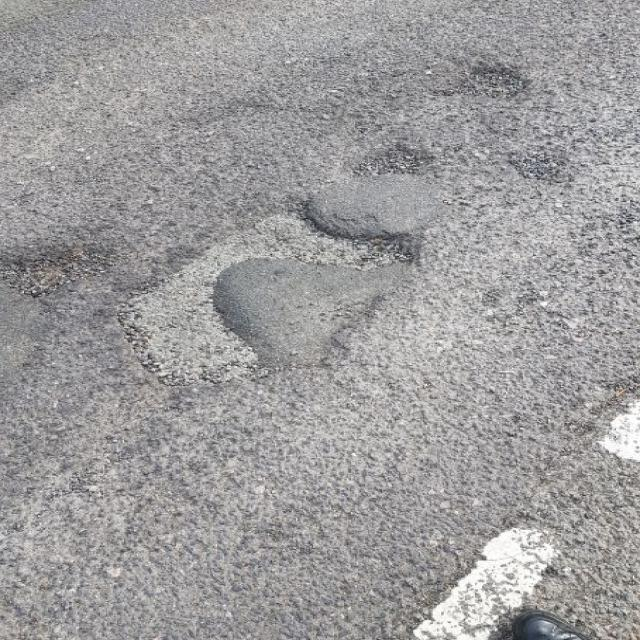Pothole: (104, 194, 430, 392)
